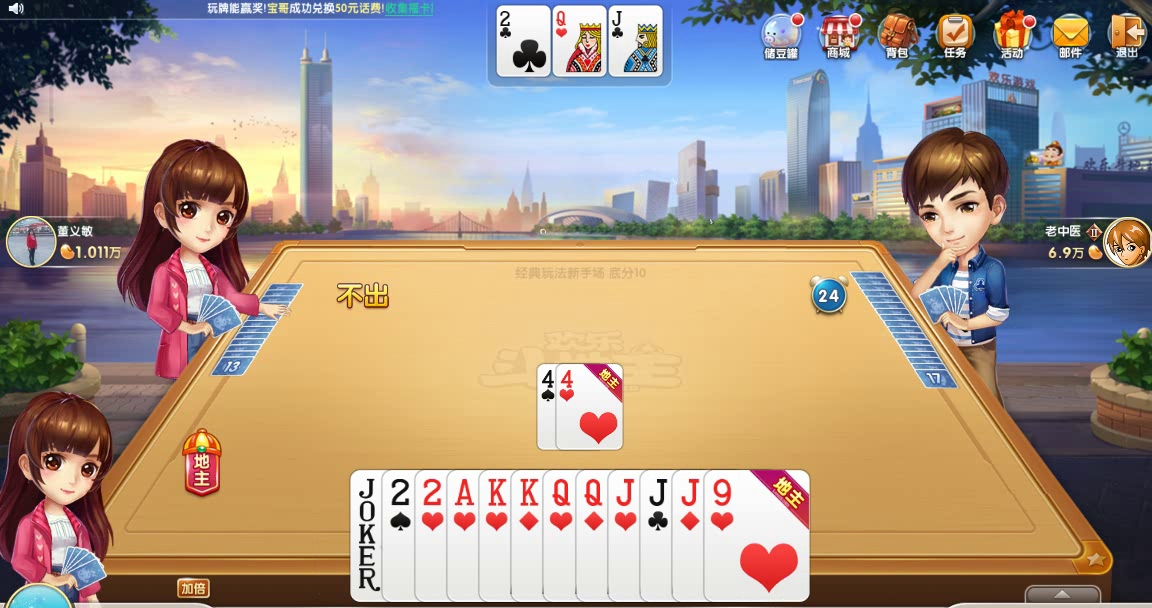11~1: (670, 469, 778, 602)
11~2: (637, 469, 745, 602), (607, 6, 664, 77)
11~3: (604, 469, 712, 602)
12~1: (574, 469, 682, 602)
12~3: (540, 469, 648, 602), (551, 6, 608, 77)
13~1: (509, 468, 617, 601)
13~3: (476, 468, 584, 601)
14~3: (444, 468, 552, 601)
15~2: (495, 5, 552, 76)
15~3: (412, 468, 520, 601)
15~4: (378, 468, 486, 601)
17~3: (348, 469, 456, 602)
4~3: (555, 364, 623, 450)
4~4: (535, 363, 603, 449)
9~3: (701, 469, 809, 602)
